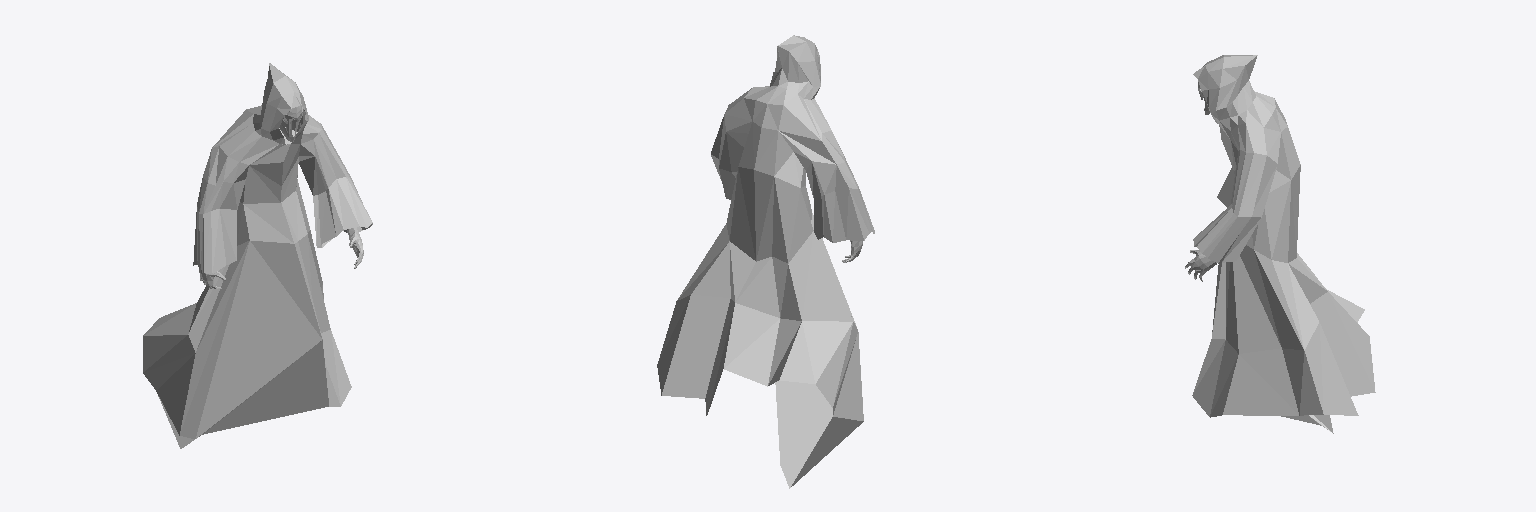
The model's file is ReaperWalk(18).obj.
The picture shows the model from 3 angles: view 1: azimuth 30°, elevation 25°; view 2: azimuth 150°, elevation 25°; view 3: azimuth 270°, elevation 25°; orthographic projection.
Parts seen in each view (by area): view 1: Plane003; view 2: Plane003; view 3: Plane003.
Boxes of the visible parts, box(x1,y1,x2,y2) form: Plane003: box(143, 63, 372, 448); Plane003: box(657, 35, 874, 488); Plane003: box(1185, 55, 1375, 433).
Size of the model in its own units: 112 by 243 by 105.